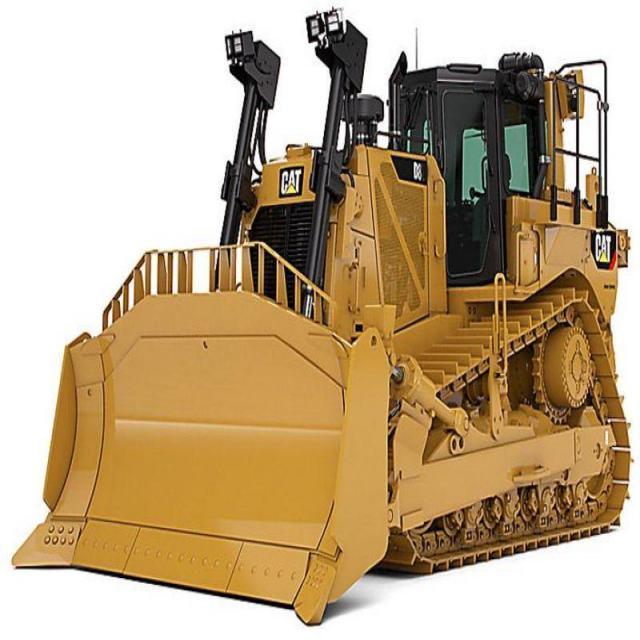Bulldozer: (13, 5, 639, 621)
